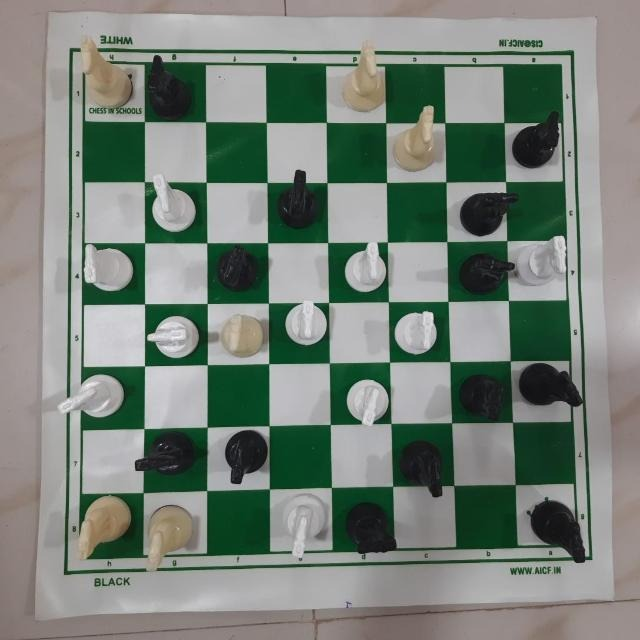black-knight: (524, 496, 592, 566), (345, 497, 403, 561), (511, 106, 563, 176), (518, 359, 586, 411), (273, 164, 323, 234), (459, 184, 521, 240), (399, 435, 449, 503), (134, 431, 198, 479), (455, 366, 509, 421), (456, 246, 515, 294), (151, 54, 195, 118), (215, 243, 264, 297), (223, 432, 273, 483)
white-knight: (79, 34, 135, 109), (57, 363, 129, 421), (332, 40, 388, 112), (73, 499, 135, 559), (279, 493, 331, 562), (144, 501, 195, 571), (393, 102, 439, 172), (144, 306, 202, 361), (514, 236, 572, 286), (146, 175, 195, 233), (80, 246, 135, 296), (341, 376, 390, 431), (339, 242, 389, 292), (278, 298, 328, 348), (392, 304, 440, 353), (218, 315, 266, 361)
